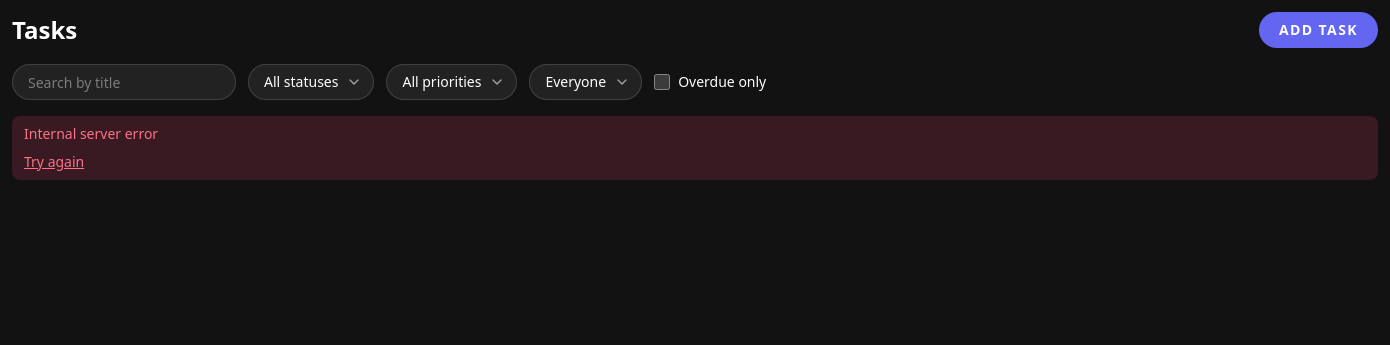
Test case: TasksPage: listing › shows an error with a retry button when the request fails
The width and height of the screenshot is (1390, 345).
Expected: the message shows "Internal server error", 24,124 -> 158,143
Click the button "Try again": (54,162) 24,152 -> 84,172
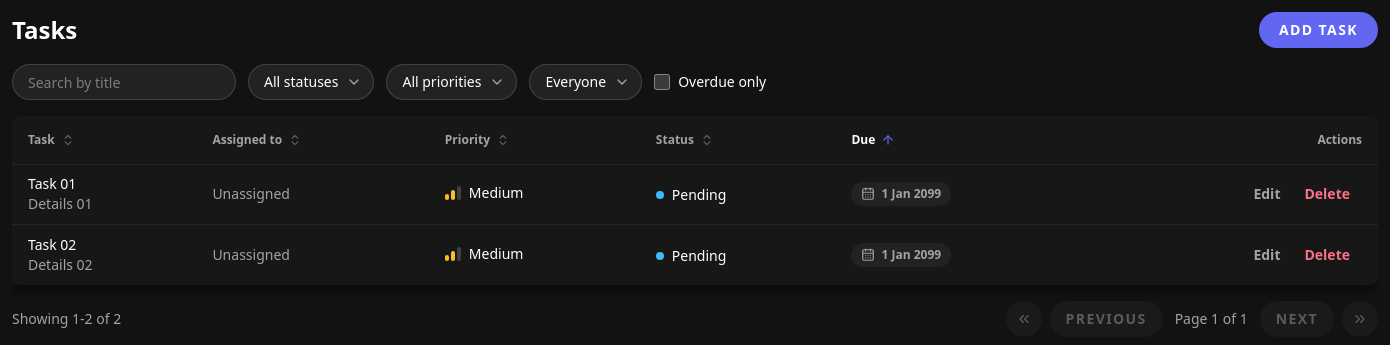
Now the text "Task 01" is shown, box 28,174 -> 76,193
